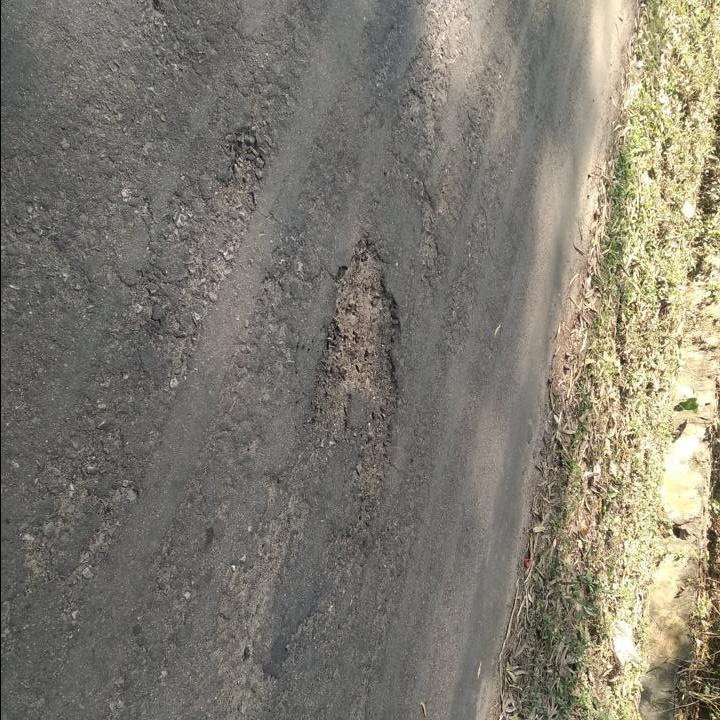pothole: (309, 232, 407, 528), (213, 124, 268, 212)
